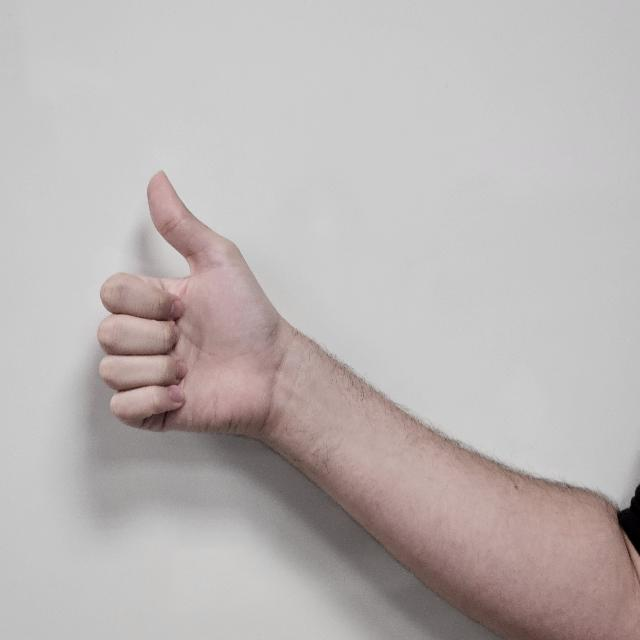Start: (98, 170, 284, 462)
